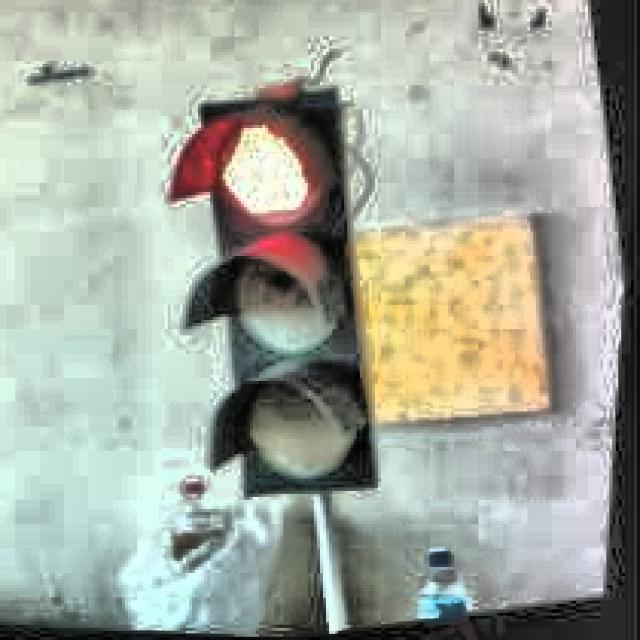red: (146, 84, 408, 513)
